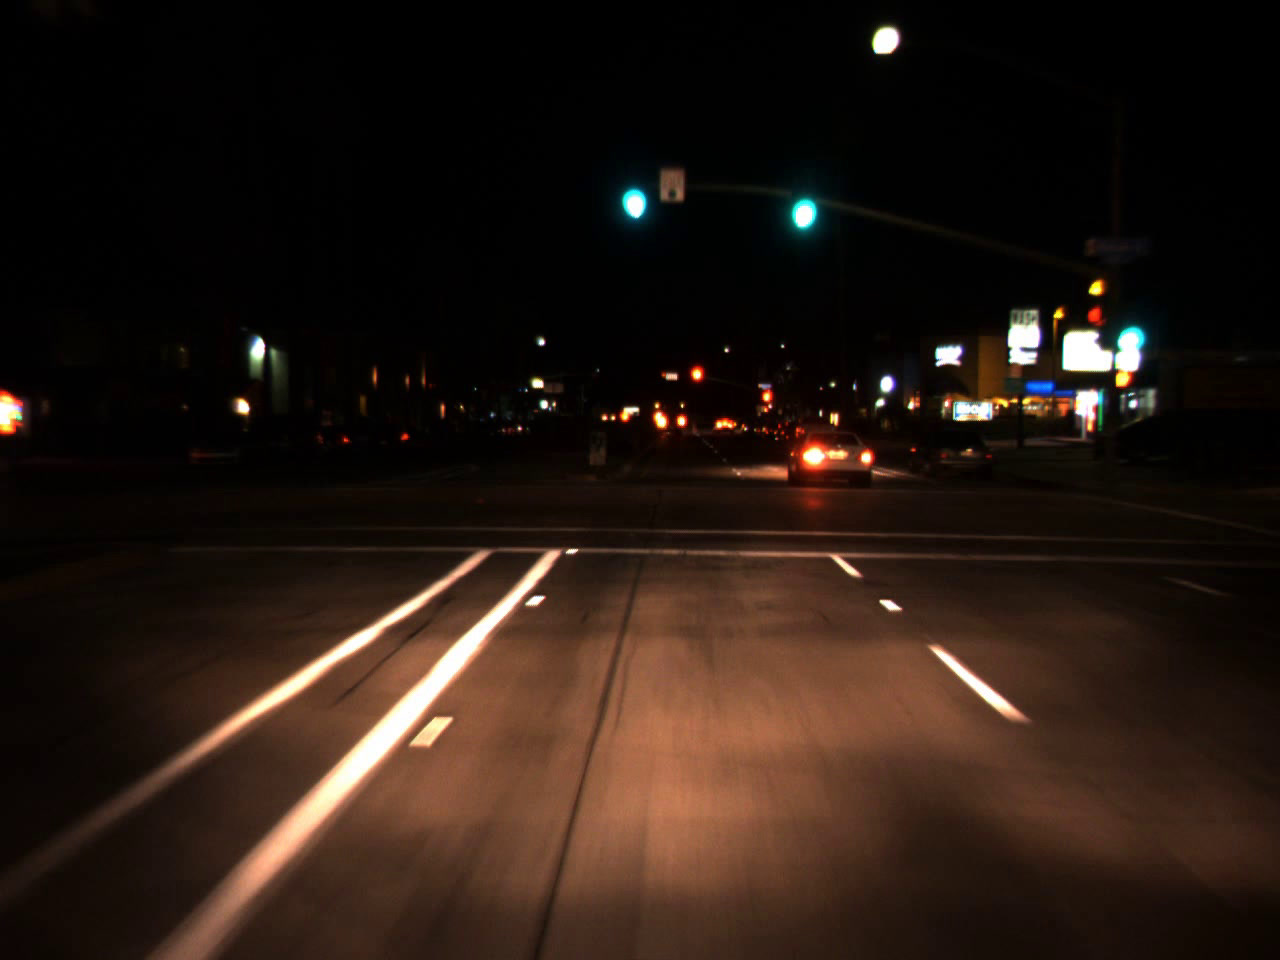go: (780, 158, 823, 242), (611, 154, 652, 226), (1108, 303, 1147, 357)
stop: (686, 362, 707, 405), (759, 387, 774, 419)
